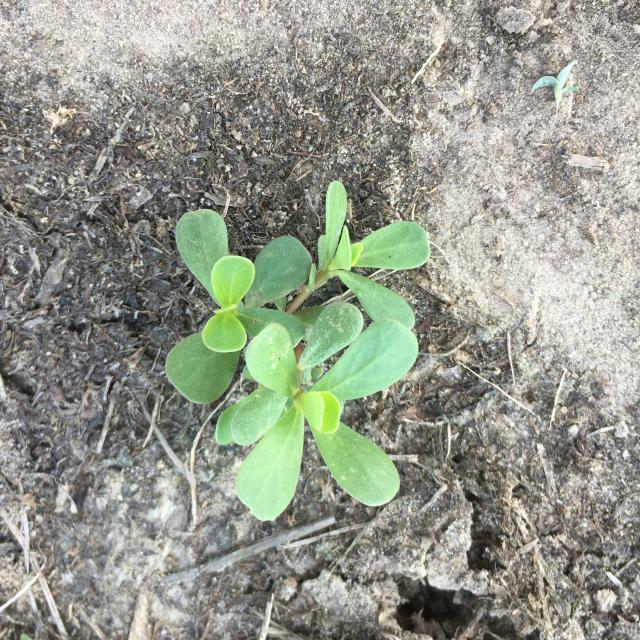Purslane: (165, 181, 430, 521)
